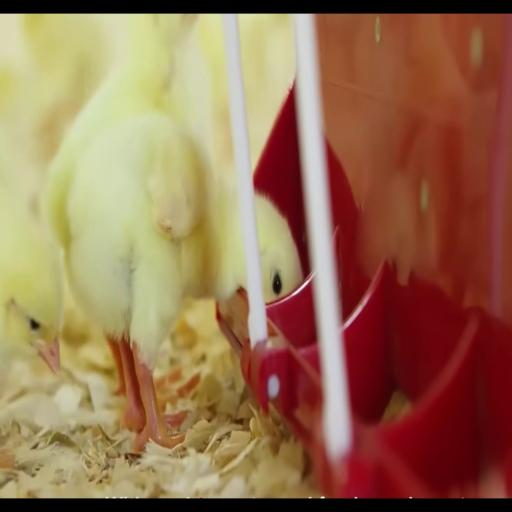chick: (63, 113, 246, 449), (0, 187, 62, 372)
